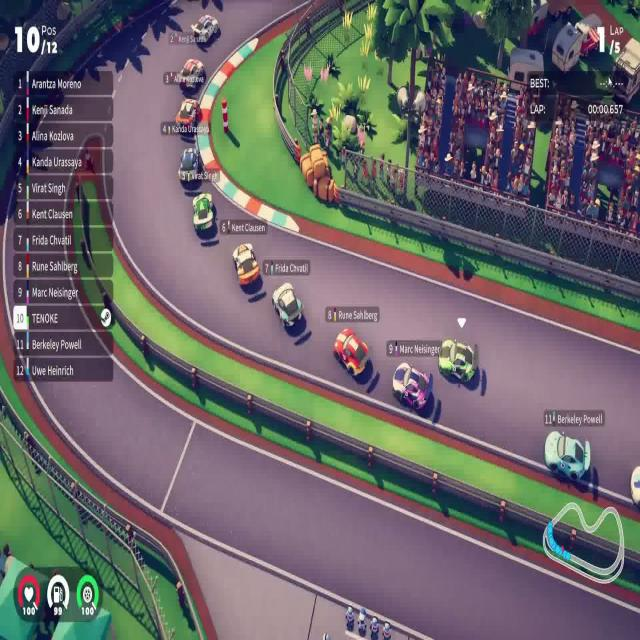car: (543, 428, 591, 483), (392, 361, 432, 412), (333, 326, 369, 378), (438, 336, 476, 384), (272, 282, 304, 330), (232, 242, 261, 288), (191, 192, 215, 236), (177, 146, 204, 185), (175, 97, 201, 133), (190, 13, 219, 45), (178, 57, 206, 90)
